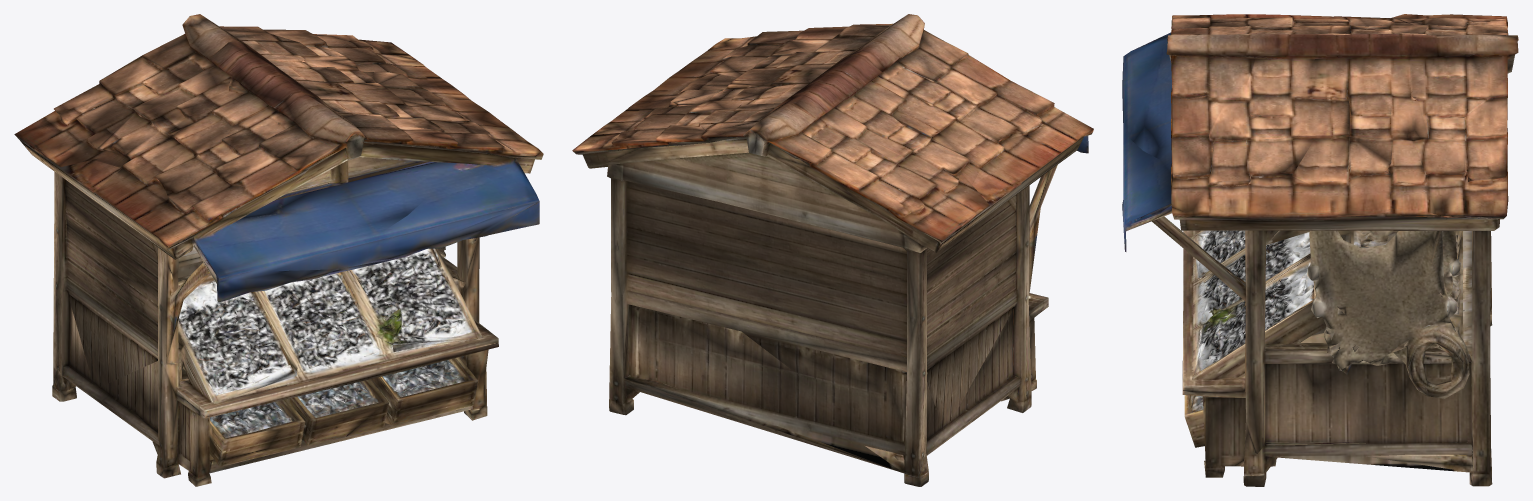
Rendered from city_trabzon_hamsi_stall.glb.
3 renders of one model, left to right at view 1: azimuth 30°, elevation 25°; view 2: azimuth 150°, elevation 25°; view 3: azimuth 270°, elevation 25°, orthographic. The views are drawn at different scales.
Visible parts, largest first — view 1: Mesh1.0; view 2: Mesh1.0; view 3: Mesh1.0.
Boxes of the visible parts, x1=… form: Mesh1.0: x1=14, y1=14, x2=543, y2=486; Mesh1.0: x1=572, y1=14, x2=1093, y2=486; Mesh1.0: x1=1122, y1=14, x2=1518, y2=486.
Size of the model in its own units: 2.83 by 2.4 by 2.36.
Materials: 1 (1 with a texture image).
